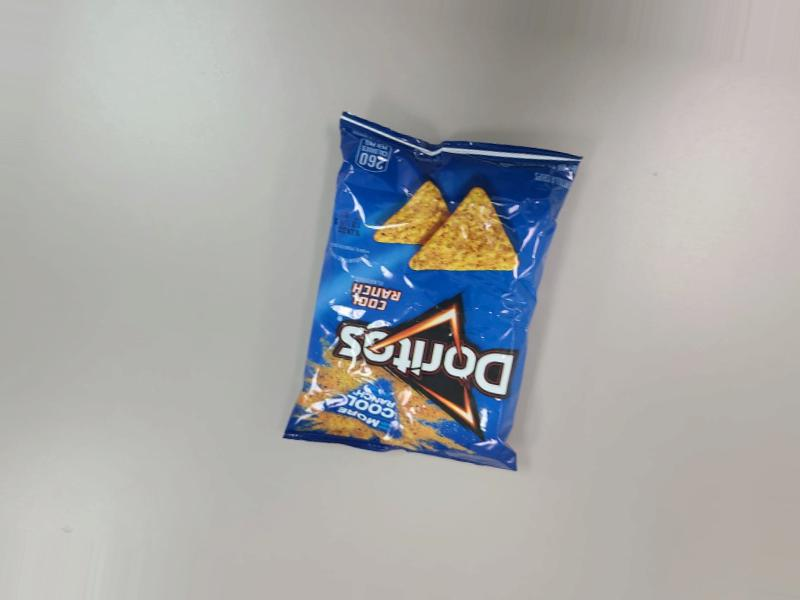doritos: (294, 99, 586, 498)
